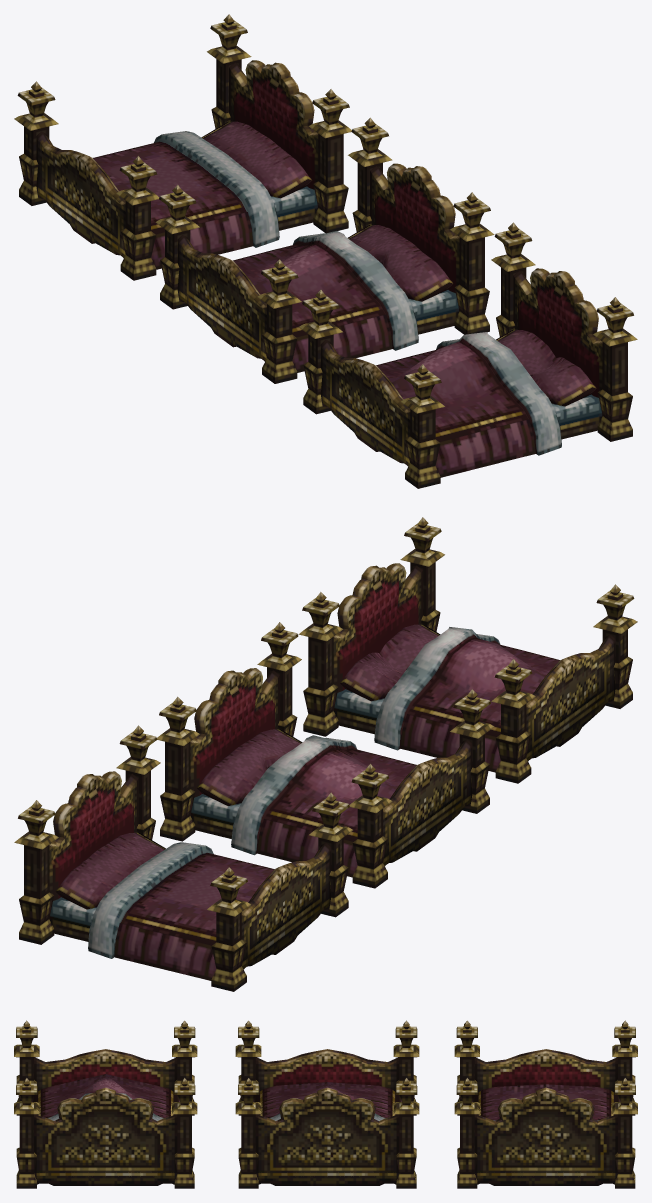
The model's file is EnvObjMD_Bed_Rosa_A.FBX.
The picture shows the model from 3 angles, top to bottom: view 1: azimuth 30°, elevation 25°; view 2: azimuth 150°, elevation 25°; view 3: azimuth 270°, elevation 25°; orthographic projection. The views are drawn at different scales.
Visible parts, largest first — view 1: EnvObjMD_Bed_Rosa_C, EnvObjMD_Bed_Rosa_A, EnvObjMD_Bed_Rosa_B; view 2: EnvObjMD_Bed_Rosa_B, EnvObjMD_Bed_Rosa_C, EnvObjMD_Bed_Rosa_A; view 3: EnvObjMD_Bed_Rosa_A, EnvObjMD_Bed_Rosa_B, EnvObjMD_Bed_Rosa_C.
Part boxes in pixels (<box>): EnvObjMD_Bed_Rosa_C: <box>298,222,637,488</box>; EnvObjMD_Bed_Rosa_A: <box>155,117,494,383</box>; EnvObjMD_Bed_Rosa_B: <box>14,14,351,280</box>; EnvObjMD_Bed_Rosa_B: <box>14,725,353,991</box>; EnvObjMD_Bed_Rosa_C: <box>298,517,637,783</box>; EnvObjMD_Bed_Rosa_A: <box>157,622,494,888</box>; EnvObjMD_Bed_Rosa_A: <box>235,1020,419,1188</box>; EnvObjMD_Bed_Rosa_B: <box>454,1020,637,1188</box>; EnvObjMD_Bed_Rosa_C: <box>14,1020,197,1188</box>.
Size of the model in its own units: 345 by 205 by 1087.
Materials: 1 (1 with a texture image).
